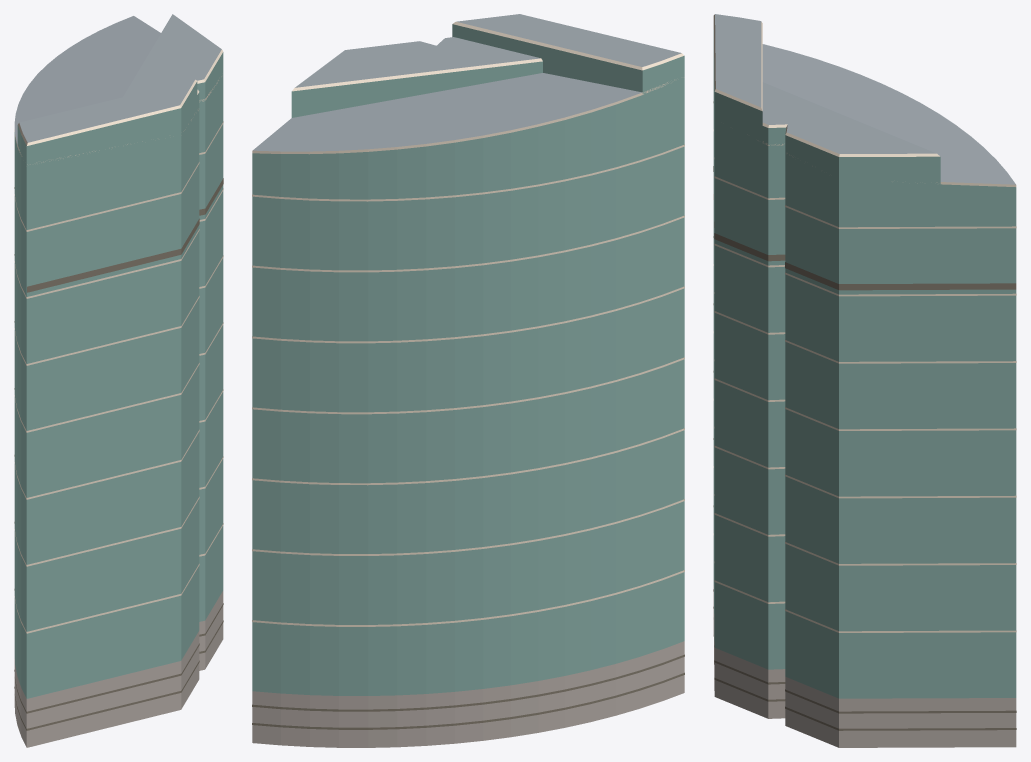
Rendered from chi-333-wacker.glb.
3 renders of one model, left to right at view 1: azimuth 30°, elevation 25°; view 2: azimuth 150°, elevation 25°; view 3: azimuth 270°, elevation 25°, orthographic. The views are drawn at different scales.
Parts seen in each view (by area): view 1: 333 Wacker Drive; view 2: 333 Wacker Drive; view 3: 333 Wacker Drive.
Boxes of the visible parts, <box> form: 333 Wacker Drive: <box>14,14,223,747</box>; 333 Wacker Drive: <box>252,14,684,747</box>; 333 Wacker Drive: <box>713,14,1016,747</box>.
Bounding box in the file's own units: 66.53 × 148 × 66.93.
